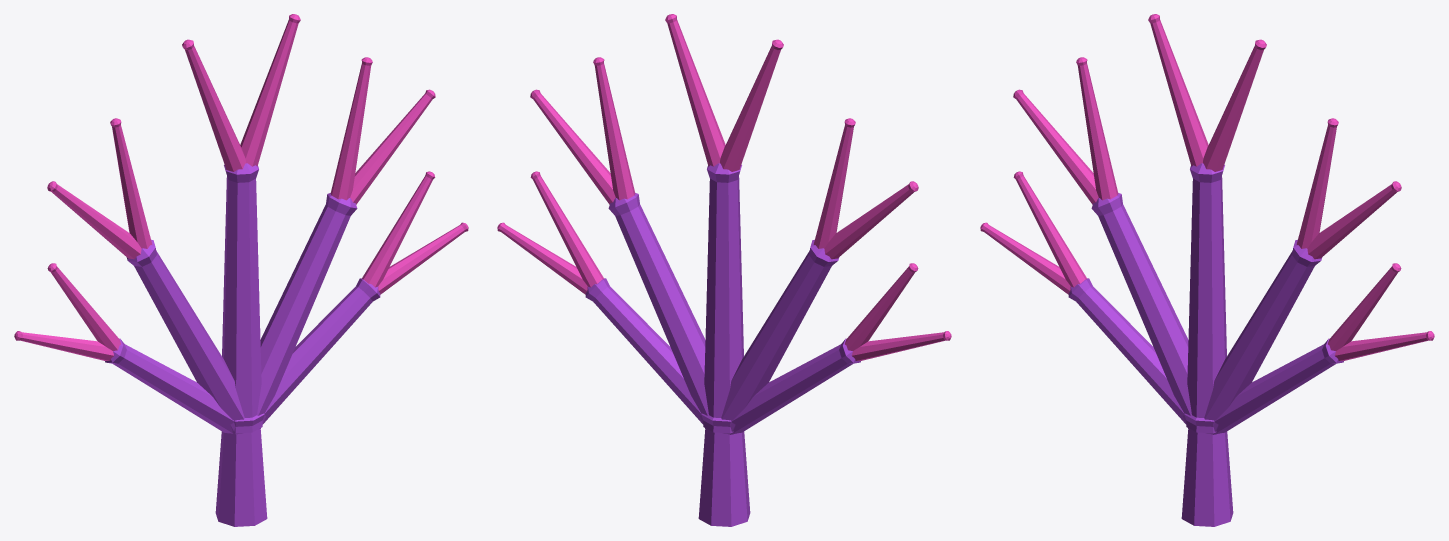
Rendered from FanCoral_A.fbx.
3 views of the same model, side by side, from view 1: azimuth 30°, elevation 25°; view 2: azimuth 150°, elevation 25°; view 3: azimuth 330°, elevation 25° (orthographic).
Visible parts, largest first — view 1: FanCoral_PrimC_Purple, FanCoral_PrimR_Purple, FanCoral_PrimL_Purple, FanCoral_Stalk_Purple, FanCoral_PrimFR_Purple, FanCoral_PrimFL_Purple, FanCoral_SecC_R_Magenta, FanCoral_SecC_L_Magenta, FanCoral_SecR_L_Magenta, FanCoral_SecR_R_Magenta, FanCoral_SecL_R_Magenta, FanCoral_SecFR_L_Magenta (+4 smaller); view 2: FanCoral_PrimC_Purple, FanCoral_PrimR_Purple, FanCoral_PrimL_Purple, FanCoral_Stalk_Purple, FanCoral_PrimFR_Purple, FanCoral_PrimFL_Purple, FanCoral_SecC_R_Magenta, FanCoral_SecC_L_Magenta, FanCoral_SecR_L_Magenta, FanCoral_SecR_R_Magenta, FanCoral_SecL_R_Magenta, FanCoral_SecFR_L_Magenta (+4 smaller); view 3: FanCoral_PrimC_Purple, FanCoral_PrimL_Purple, FanCoral_PrimR_Purple, FanCoral_Stalk_Purple, FanCoral_PrimFL_Purple, FanCoral_PrimFR_Purple, FanCoral_SecC_L_Magenta, FanCoral_SecC_R_Magenta, FanCoral_SecL_R_Magenta, FanCoral_SecL_L_Magenta, FanCoral_SecR_L_Magenta, FanCoral_SecFL_R_Magenta (+4 smaller).
Part boxes in pixels (bbox=[...]): FanCoral_PrimC_Purple: bbox=[222, 163, 262, 433]; FanCoral_PrimR_Purple: bbox=[257, 193, 357, 428]; FanCoral_PrimL_Purple: bbox=[126, 239, 244, 434]; FanCoral_Stalk_Purple: bbox=[215, 413, 267, 526]; FanCoral_PrimFR_Purple: bbox=[263, 278, 380, 423]; FanCoral_PrimFL_Purple: bbox=[105, 338, 234, 433]; FanCoral_SecC_R_Magenta: bbox=[240, 14, 300, 166]; FanCoral_SecC_L_Magenta: bbox=[182, 39, 245, 171]; FanCoral_SecR_L_Magenta: bbox=[330, 57, 372, 200]; FanCoral_SecR_R_Magenta: bbox=[350, 89, 435, 204]; FanCoral_SecL_R_Magenta: bbox=[110, 118, 152, 248]; FanCoral_SecFR_L_Magenta: bbox=[362, 171, 435, 287]; FanCoral_PrimC_Purple: bbox=[703, 163, 743, 433]; FanCoral_PrimR_Purple: bbox=[608, 193, 708, 428]; FanCoral_PrimL_Purple: bbox=[721, 239, 839, 434]; FanCoral_Stalk_Purple: bbox=[698, 413, 750, 526]; FanCoral_PrimFR_Purple: bbox=[585, 278, 702, 423]; FanCoral_PrimFL_Purple: bbox=[731, 338, 860, 433]; FanCoral_SecC_R_Magenta: bbox=[665, 14, 725, 166]; FanCoral_SecC_L_Magenta: bbox=[720, 39, 783, 171]; FanCoral_SecR_L_Magenta: bbox=[593, 57, 635, 200]; FanCoral_SecR_R_Magenta: bbox=[530, 89, 615, 204]; FanCoral_SecL_R_Magenta: bbox=[813, 118, 855, 248]; FanCoral_SecFR_L_Magenta: bbox=[530, 171, 603, 287]; FanCoral_PrimC_Purple: bbox=[1186, 163, 1226, 433]; FanCoral_PrimL_Purple: bbox=[1091, 193, 1191, 428]; FanCoral_PrimR_Purple: bbox=[1204, 239, 1322, 434]; FanCoral_Stalk_Purple: bbox=[1181, 413, 1233, 526]; FanCoral_PrimFL_Purple: bbox=[1068, 278, 1185, 423]; FanCoral_PrimFR_Purple: bbox=[1214, 338, 1343, 433]; FanCoral_SecC_L_Magenta: bbox=[1148, 14, 1208, 166]; FanCoral_SecC_R_Magenta: bbox=[1203, 39, 1266, 171]; FanCoral_SecL_R_Magenta: bbox=[1076, 57, 1118, 200]; FanCoral_SecL_L_Magenta: bbox=[1013, 89, 1098, 204]; FanCoral_SecR_L_Magenta: bbox=[1296, 118, 1338, 248]; FanCoral_SecFL_R_Magenta: bbox=[1013, 171, 1086, 287].
Bounding box in the file's own units: 450 × 464 × 46.
